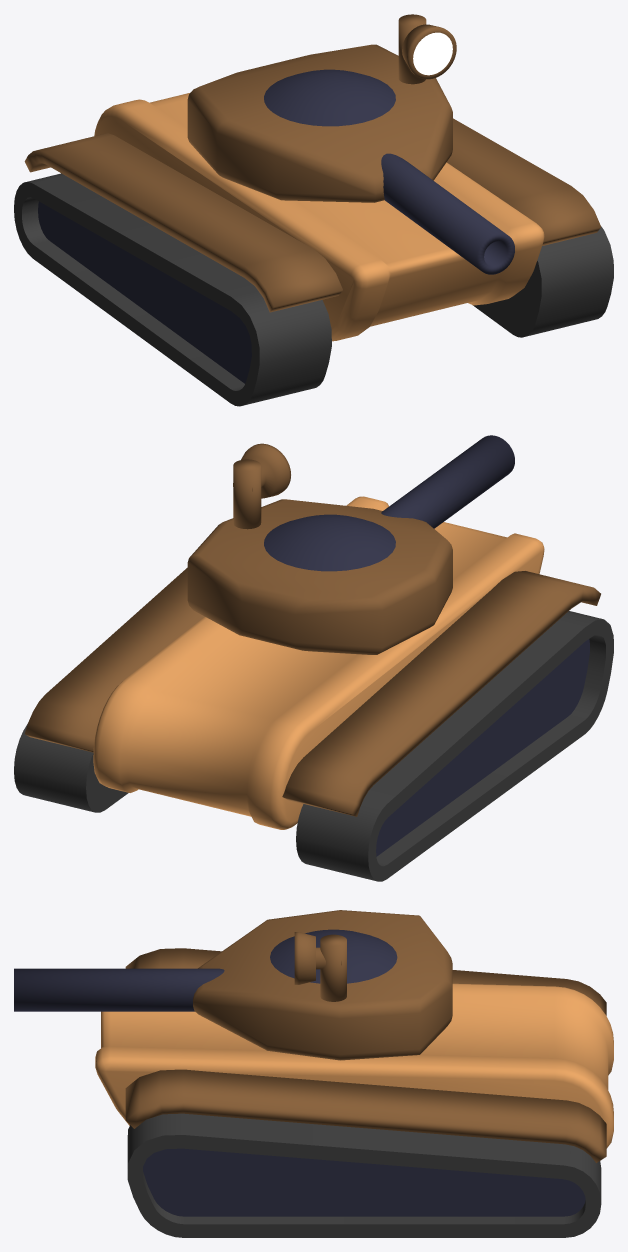
Rendered from tank.glb.
3 renders of one model, top to bottom at view 1: azimuth 30°, elevation 25°; view 2: azimuth 150°, elevation 25°; view 3: azimuth 270°, elevation 25°, orthographic. The views are drawn at different scales.
Parts seen in each view (by area): view 1: tank, tower, towerLamp; view 2: tank, tower, towerLamp; view 3: tank, tower, towerLamp.
Boxes of the visible parts, x1=… form: tank: x1=14, y1=93, x2=613, y2=406; tower: x1=187, y1=14, x2=514, y2=274; towerLamp: x1=402, y1=24, x2=456, y2=79; tank: x1=14, y1=496, x2=613, y2=881; tower: x1=187, y1=435, x2=514, y2=654; towerLamp: x1=233, y1=443, x2=290, y2=498; tank: x1=95, y1=948, x2=613, y2=1237; tower: x1=14, y1=910, x2=452, y2=1060; towerLamp: x1=294, y1=932, x2=341, y2=984.
Bounding box in the file's own units: 1.85 × 1.34 × 2.82.
